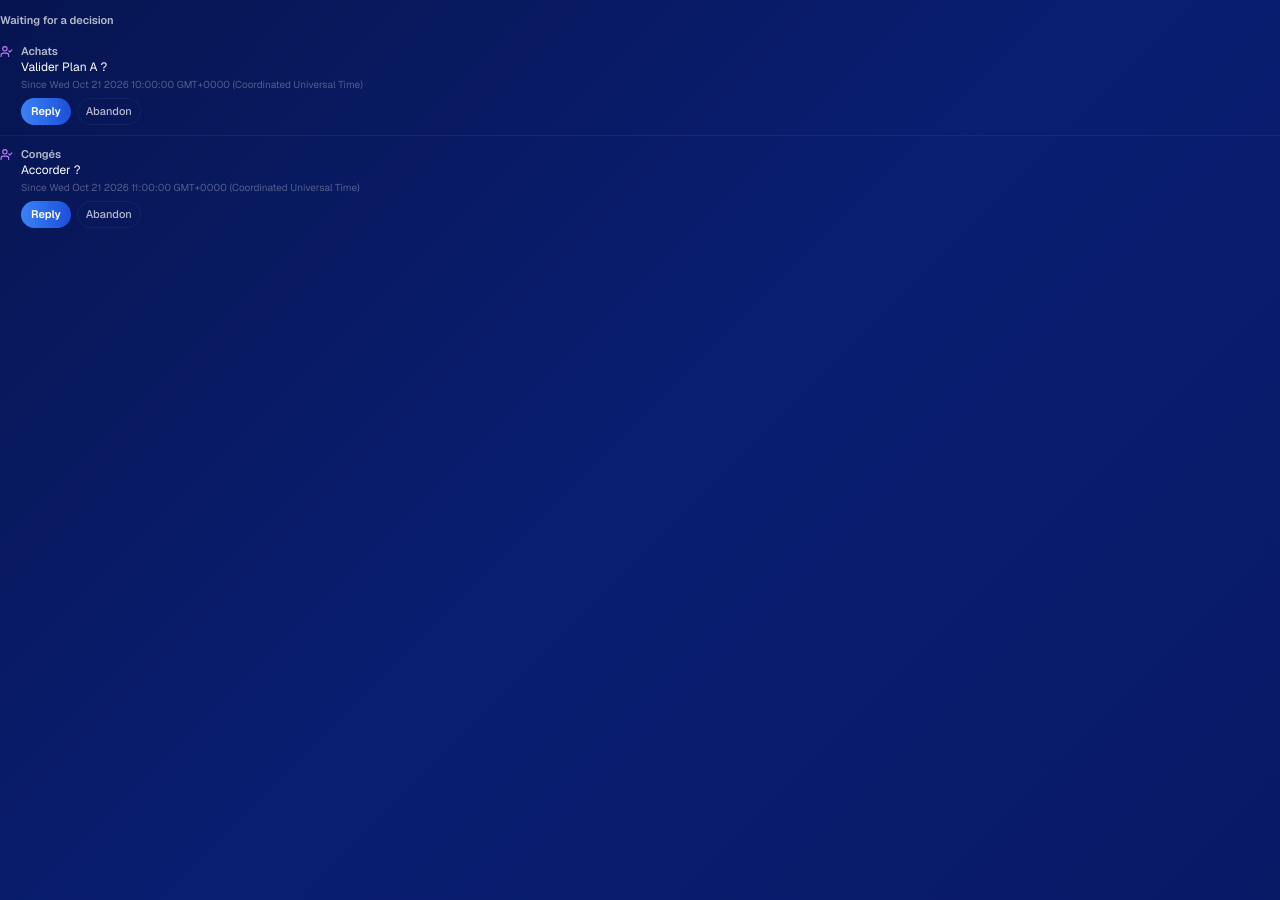
Scenario: AwaitingDecisionsList › closes the modal once answered, and reloads the list
Click the button "Reply" below "Valider Plan A ?": (46, 111) [21,98,71,124]
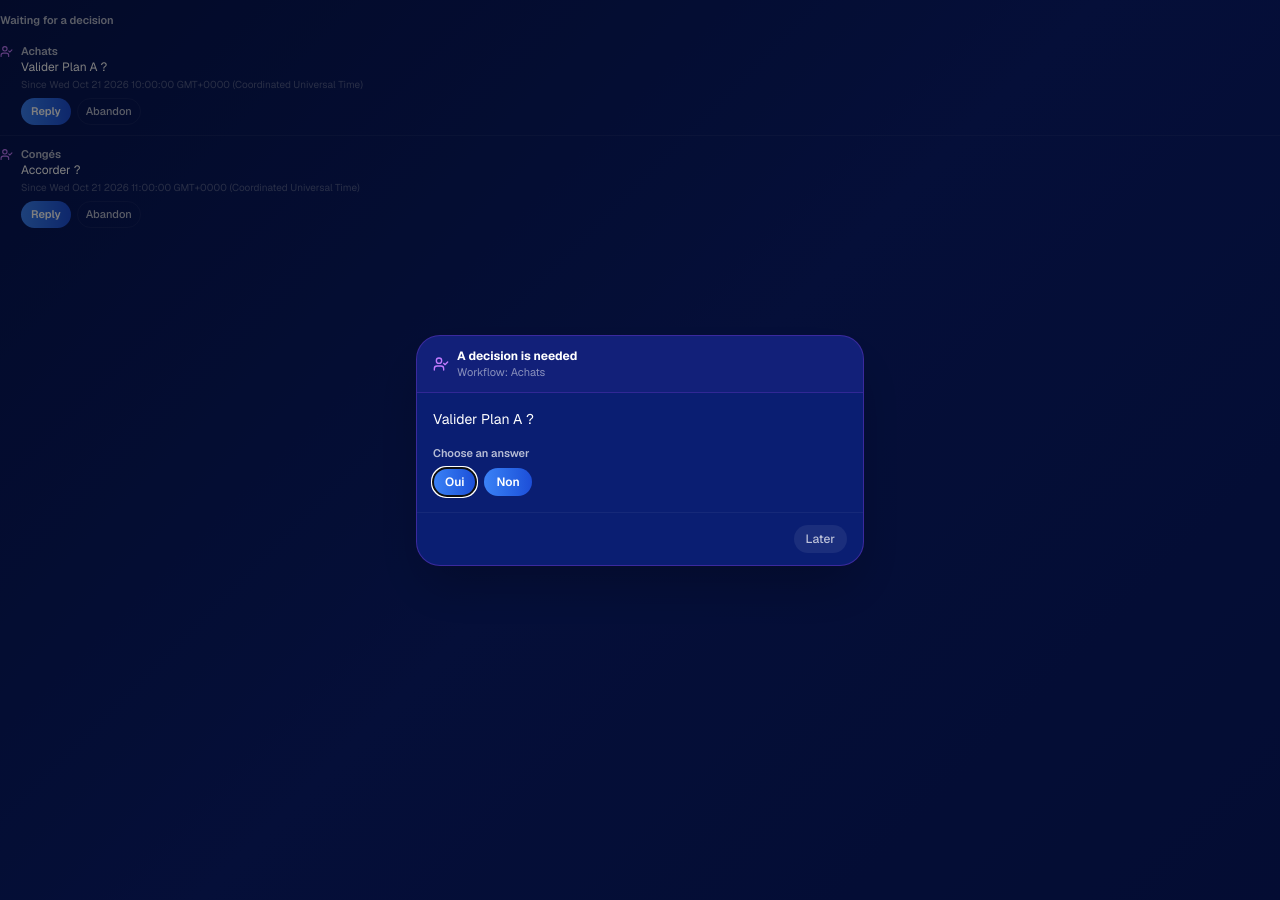
Click the button "Oui": (455, 482) [433,468,476,496]
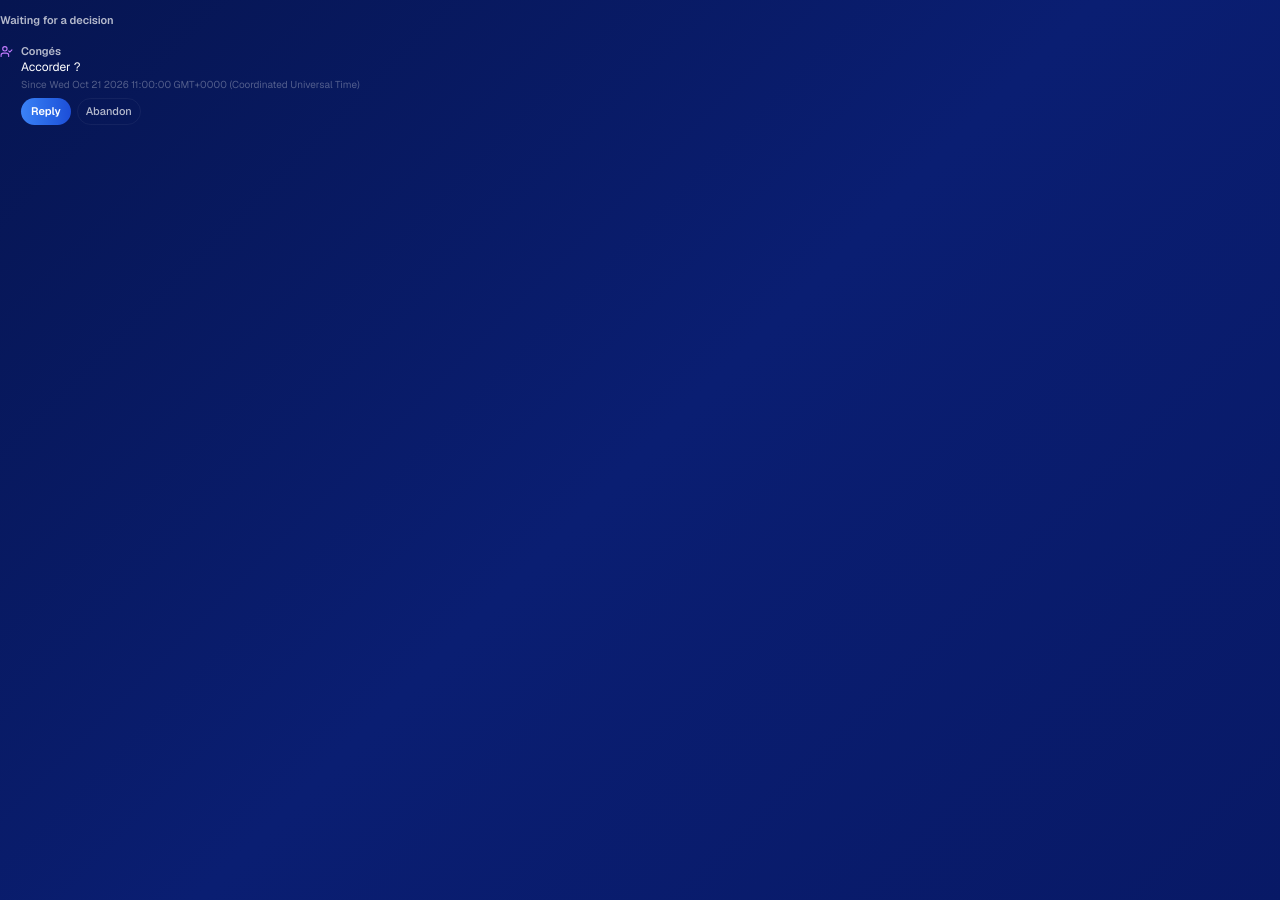
Expected: the dialog is gone
Expected: the text "Valider Plan A ?" is gone
